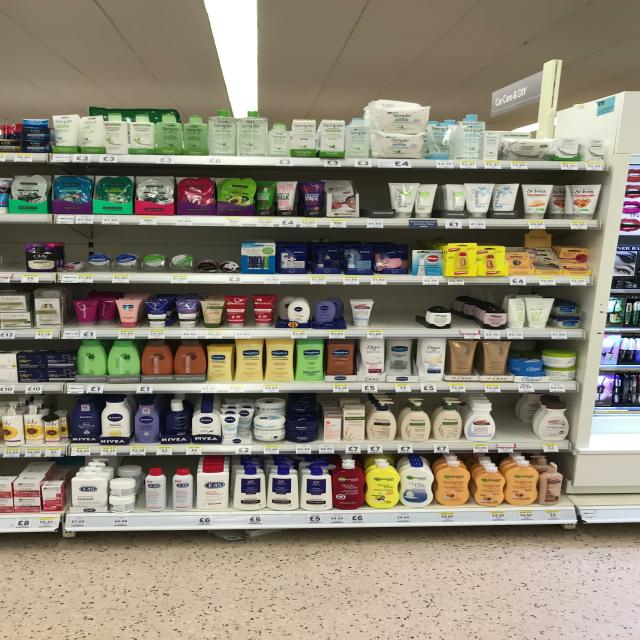void: (357, 177, 391, 226), (504, 399, 535, 451), (1, 232, 24, 283), (459, 287, 481, 336), (404, 290, 426, 338), (382, 294, 402, 338)
